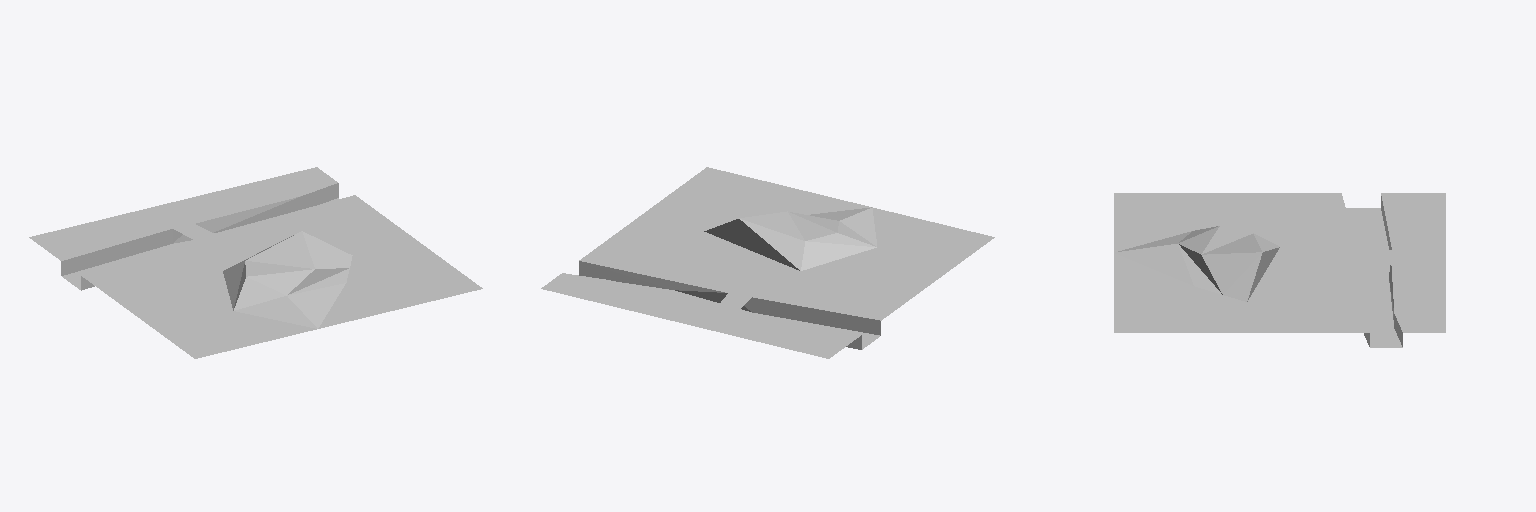
File: level1.obj
The picture shows the model from 3 angles: view 1: azimuth 30°, elevation 25°; view 2: azimuth 150°, elevation 25°; view 3: azimuth 270°, elevation 25°; orthographic projection.
Visible parts, largest first — view 1: Plane; view 2: Plane; view 3: Plane.
Part boxes in pixels (left/top/right/bottom): Plane: left=29, top=167, right=482, bottom=358; Plane: left=541, top=167, right=994, bottom=358; Plane: left=1114, top=193, right=1445, bottom=347.
Bounding box in the file's own units: 64 × 9.39 × 64.